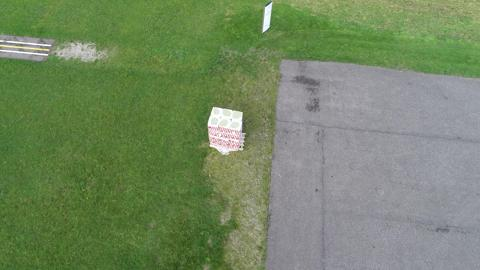RockwoolPallet: (206, 105, 246, 148)
